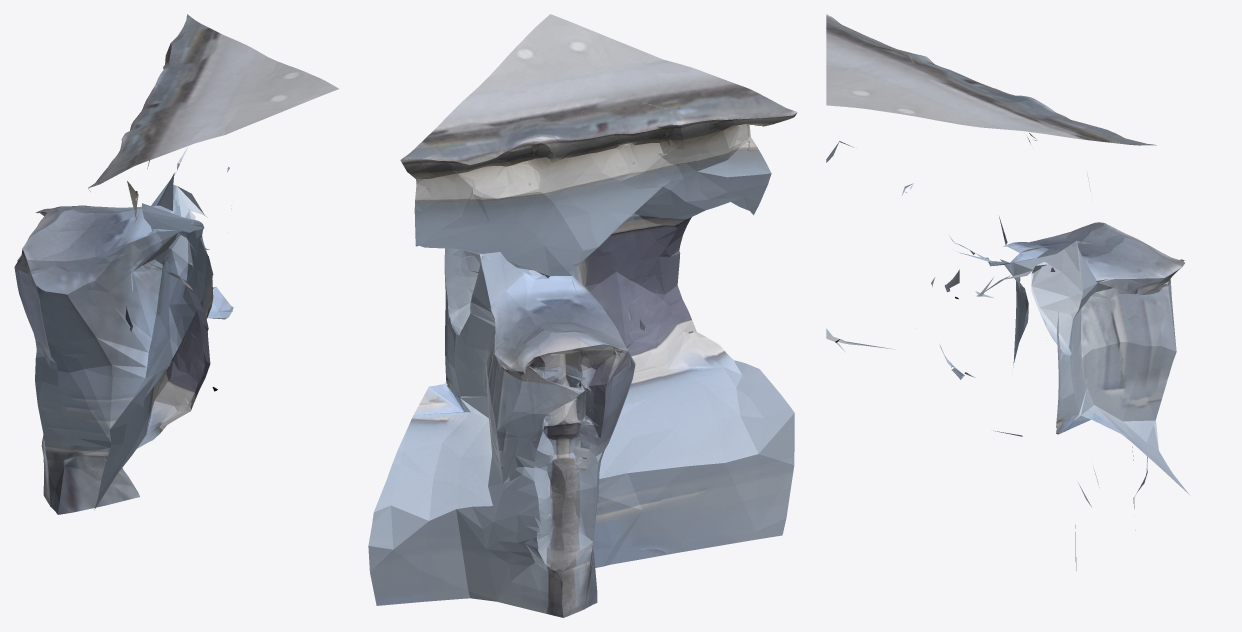
The picture shows the model from 3 angles, left to right: view 1: azimuth 30°, elevation 25°; view 2: azimuth 150°, elevation 25°; view 3: azimuth 270°, elevation 25°; orthographic projection. The views are drawn at different scales.
Bounding box in the file's own units: 1.48 × 2.66 × 1.89.
Materials: 2 (2 with a texture image).
